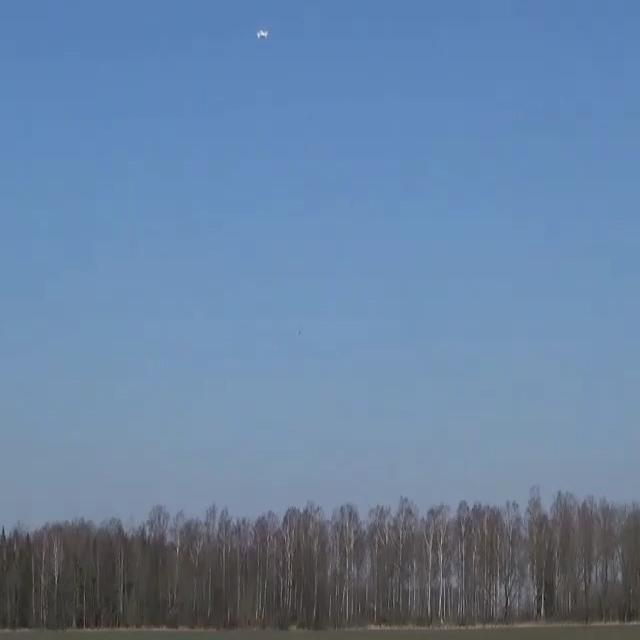drone: (256, 29, 268, 39)
